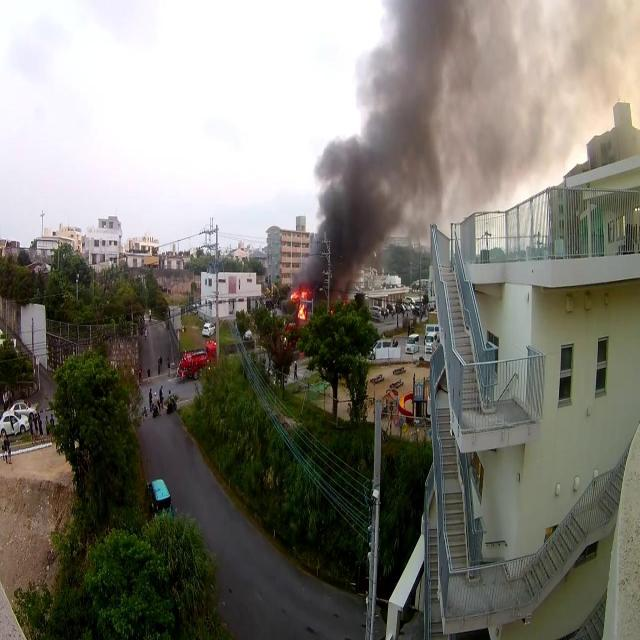Fire: (288, 289, 312, 321)
